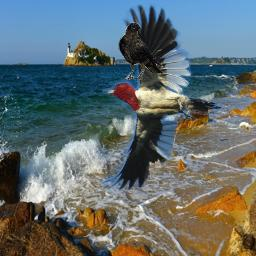Crow: (118, 22, 163, 80)
Woodpecker: (102, 4, 223, 192)
